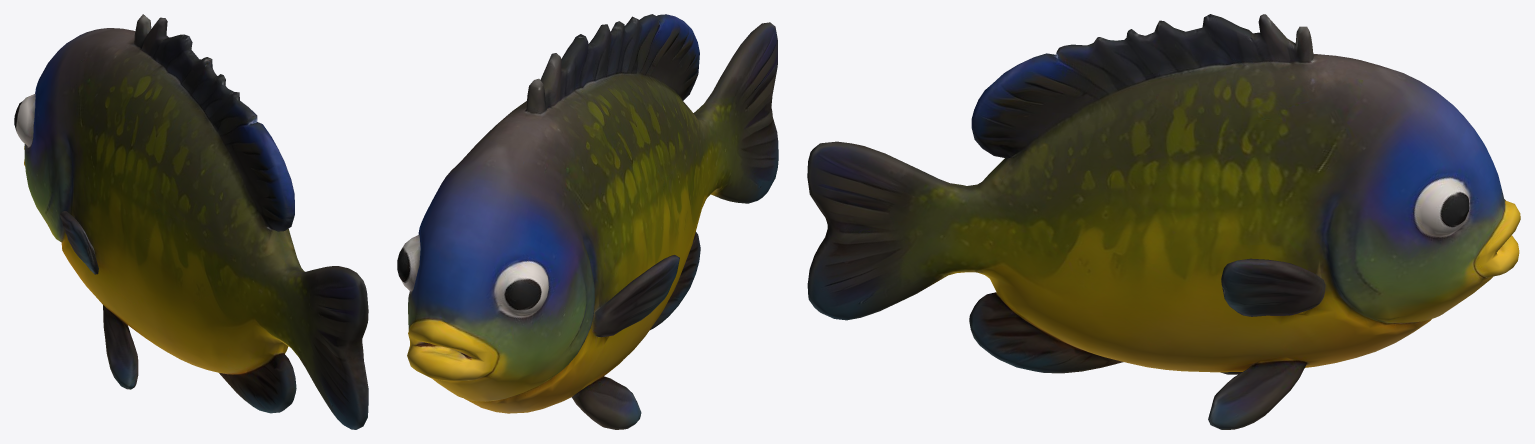
The model's file is bluegill.glb.
3 views of the same model, side by side, from view 1: azimuth 30°, elevation 25°; view 2: azimuth 150°, elevation 25°; view 3: azimuth 270°, elevation 25° (orthographic). The views are drawn at different scales.
Visible parts, largest first — view 1: tripo_node_733ebb13-cd36-4dbb-8d38-0cb2c93e938a; view 2: tripo_node_733ebb13-cd36-4dbb-8d38-0cb2c93e938a; view 3: tripo_node_733ebb13-cd36-4dbb-8d38-0cb2c93e938a.
Boxes of the visible parts, bbox=[...] form: tripo_node_733ebb13-cd36-4dbb-8d38-0cb2c93e938a: bbox=[14, 14, 368, 429]; tripo_node_733ebb13-cd36-4dbb-8d38-0cb2c93e938a: bbox=[397, 14, 778, 429]; tripo_node_733ebb13-cd36-4dbb-8d38-0cb2c93e938a: bbox=[807, 14, 1520, 429].
Bounding box in the file's own units: 0.3635 × 0.5988 × 1.
1 material, 1 textured.
